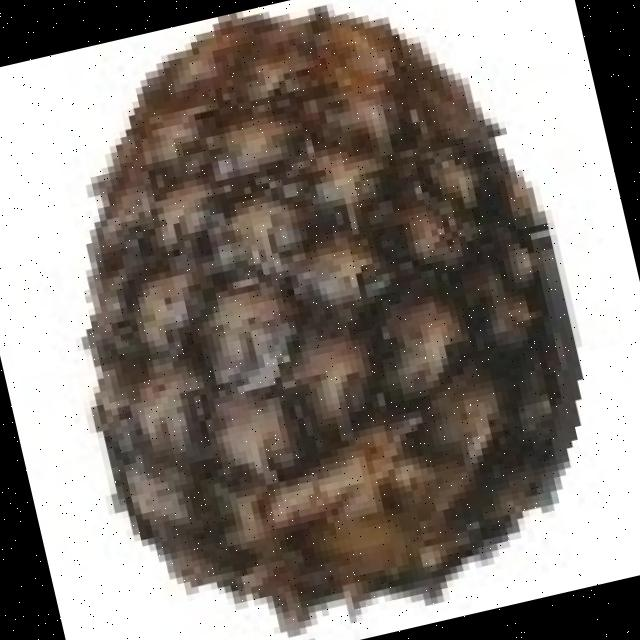pineapple: (78, 8, 563, 619)
